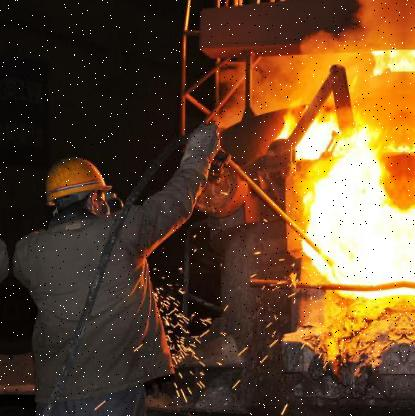helmet: (36, 147, 119, 225)
